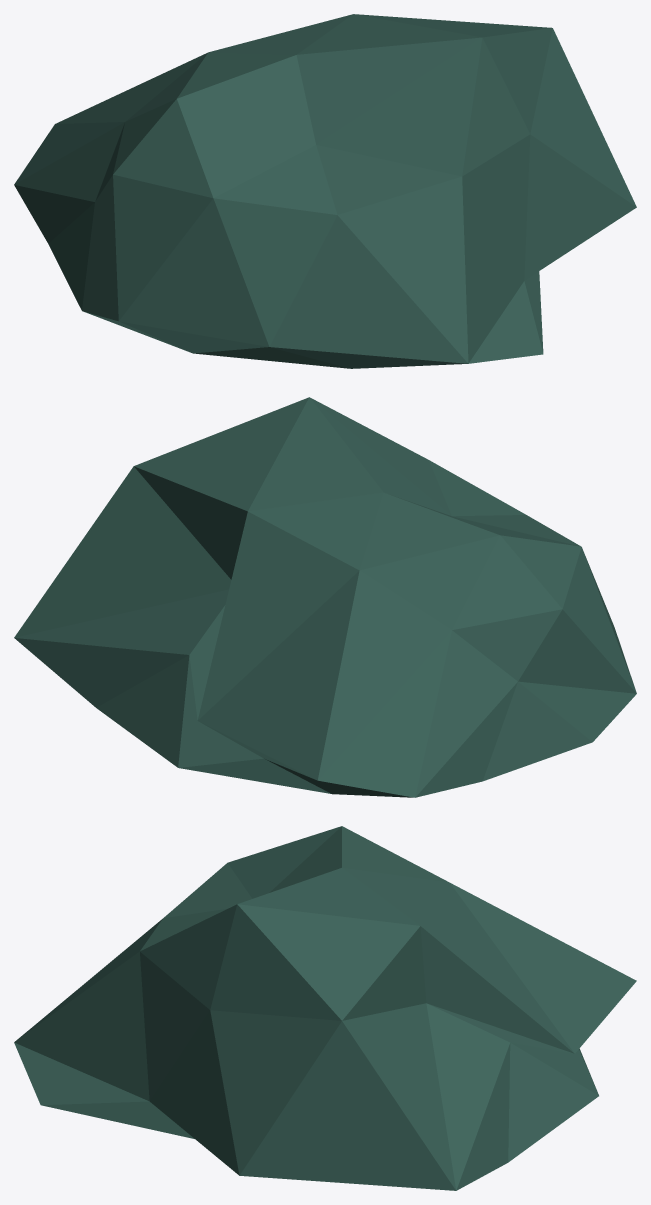
The model's file is Stone_32.fbx.
3 views of the same model, one above another, from view 1: azimuth 30°, elevation 25°; view 2: azimuth 150°, elevation 25°; view 3: azimuth 270°, elevation 25° (orthographic). The views are drawn at different scales.
Parts seen in each view (by area): view 1: Stone 32; view 2: Stone 32; view 3: Stone 32.
Boxes of the visible parts, x1,y1,x2,y2 form: Stone 32: (14, 14, 636, 368); Stone 32: (14, 397, 636, 797); Stone 32: (14, 826, 636, 1190).
Size of the model in its own units: 185 by 82.06 by 194.
